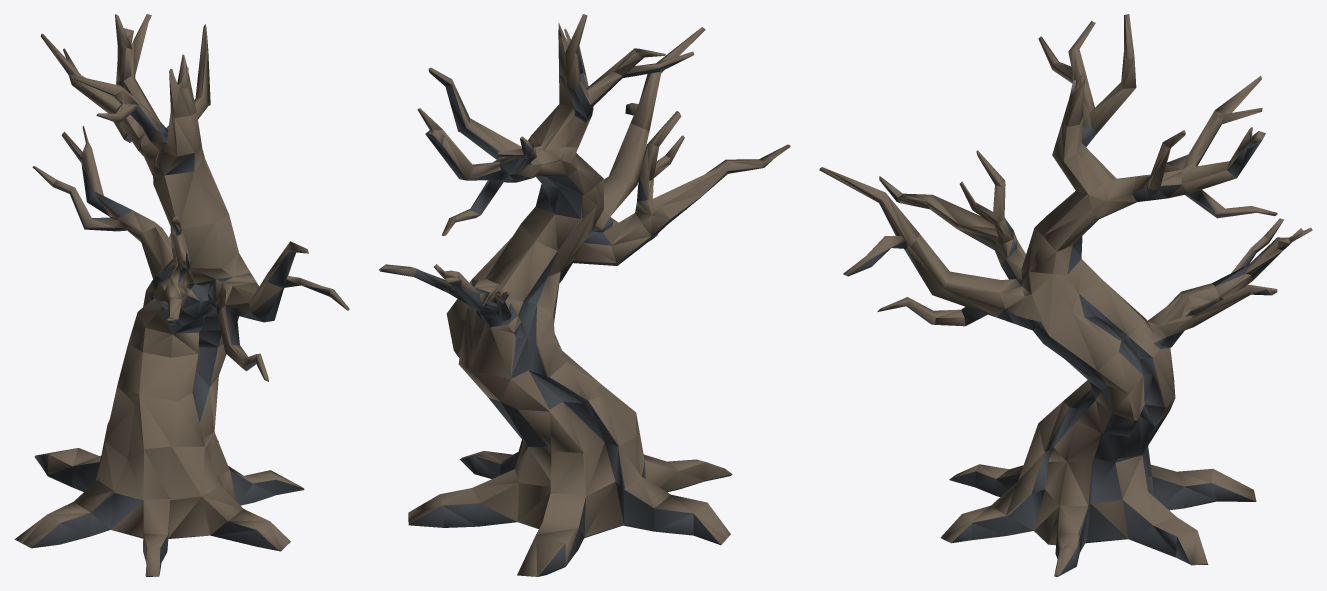
The model's file is mdvl_nature_deadtree_01.glb.
The picture shows the model from 3 angles, left to right: view 1: azimuth 30°, elevation 25°; view 2: azimuth 150°, elevation 25°; view 3: azimuth 270°, elevation 25°; orthographic projection. The views are drawn at different scales.
Parts seen in each view (by area): view 1: mdvl_nature_deadtree_01; view 2: mdvl_nature_deadtree_01; view 3: mdvl_nature_deadtree_01.
Boxes of the visible parts, x1,y1,x2,y2 form: mdvl_nature_deadtree_01: (14, 14, 349, 576); mdvl_nature_deadtree_01: (378, 14, 790, 576); mdvl_nature_deadtree_01: (819, 14, 1312, 576).
Size of the model in its own units: 2.8 by 4.88 by 4.43.
Materials: 1 (1 with a texture image).
